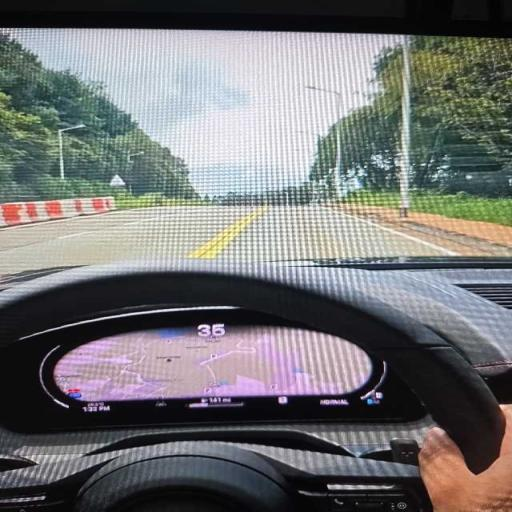car: (0, 13, 511, 511)
lane: (0, 205, 452, 274), (220, 205, 453, 260)
person: (420, 406, 511, 511)
